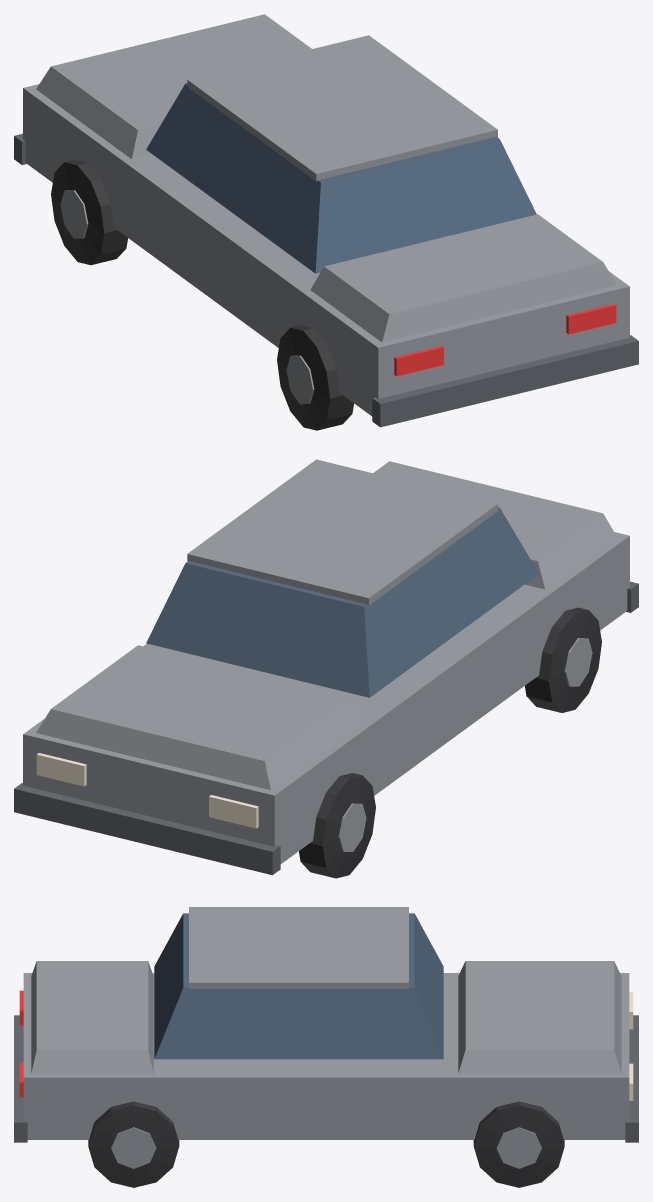
Rendered from Car_steel.obj.
3 views of the same model, one above another, from view 1: azimuth 30°, elevation 25°; view 2: azimuth 150°, elevation 25°; view 3: azimuth 270°, elevation 25° (orthographic). The views are drawn at different scales.
Visible parts, largest first — view 1: Car_steel; view 2: Car_steel; view 3: Car_steel.
Boxes of the visible parts, <box> form: Car_steel: <box>14,14,638,430</box>; Car_steel: <box>14,459,638,878</box>; Car_steel: <box>14,907,638,1187</box>.
Size of the model in its own units: 2 by 1.5 by 4.54.
Materials: 1 (1 with a texture image).
